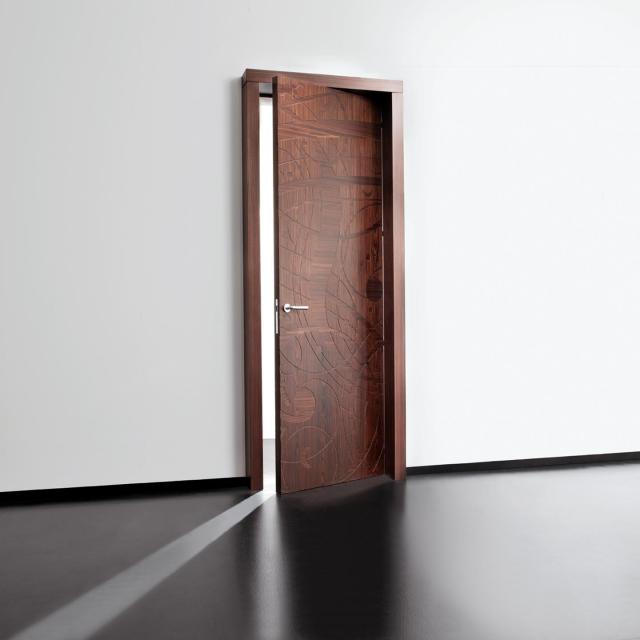open: (246, 71, 411, 482)
